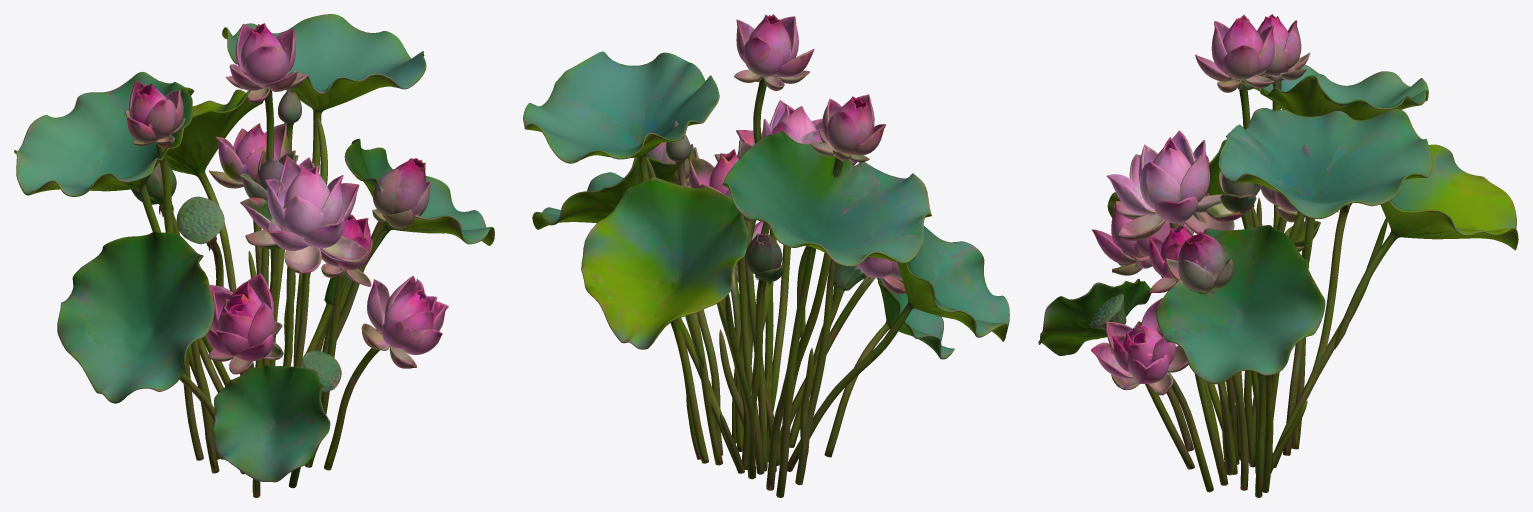
Rendered from HeHua_4.glb.
3 renders of one model, left to right at view 1: azimuth 30°, elevation 25°; view 2: azimuth 150°, elevation 25°; view 3: azimuth 270°, elevation 25°, orthographic.
Parts seen in each view (by area): view 1: node_0; view 2: node_0; view 3: node_0.
Boxes of the visible parts, x1=… form: node_0: x1=14, y1=14, x2=494, y2=497; node_0: x1=523, y1=14, x2=1009, y2=497; node_0: x1=1038, y1=14, x2=1518, y2=497.
Bounding box in the file's own units: 1.01 × 1.01 × 0.9802.
1 material, 1 textured.
